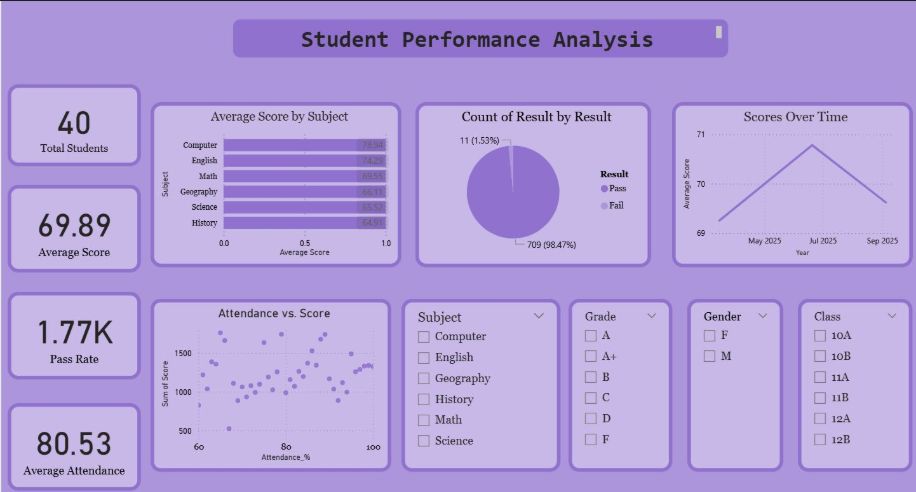

The dashboard page shown, as its layout file describes it:
{"tool":"powerbi","page":{"name":"Page 1","canvas":[1280,720],"ordinal":0},"visuals":[{"type":"card","fields":{"Values":["Sheet1.Total Students"]},"box":[8.8,118.7,185.8,113.8],"z":0},{"type":"card","fields":{"Values":["Sheet1.Average Score"]},"box":[8.8,258.7,185.8,121.6],"z":1000},{"type":"card","fields":{"Values":["Sheet1.Pass Rate"]},"box":[8.8,407.5,185.8,121.6],"z":2000},{"type":"card","fields":{"Values":["Sheet1.Average Attendance"]},"box":[8.8,563.2,185.8,121.6],"z":3000},{"type":"clusteredBarChart","fields":{"Category":["Sheet1.Subject"],"Y":["Sheet1.Average Score"]},"box":[208.1,144,350.2,229.5],"z":4000},{"type":"pieChart","fields":{"Y":["CountNonNull(Sheet1.Result)"],"Category":["Sheet1.Result"]},"box":[577.8,144,328.8,229.5],"z":5000},{"type":"lineChart","title":"Scores Over Time","fields":{"Y":["Sheet1.Average Score"],"Category":["Sheet1.Exam_Date.Variation.Date Hierarchy.Year","Sheet1.Exam_Date.Variation.Date Hierarchy.Quarter","Sheet1.Exam_Date.Variation.Date Hierarchy.Month","Sheet1.Exam_Date.Variation.Date Hierarchy.Day"]},"box":[936.7,144,335.6,229.5],"z":6000},{"type":"scatterChart","title":"Attendance vs. Score","fields":{"Y":["Sum(Sheet1.Score)"],"X":["Sheet1.Attendance_%"]},"box":[208.1,417.3,335.6,241.2],"z":7000},{"type":"slicer","fields":{"Values":["Sheet1.Gender"]},"box":[958.1,417.3,134.2,241.2],"z":8000},{"type":"slicer","fields":{"Values":["Sheet1.Subject"]},"box":[558.3,417.3,221.8,241.2],"z":9000},{"type":"slicer","fields":{"Values":["Sheet1.Grade"]},"box":[791.7,417.3,144.9,241.2],"z":10000},{"type":"slicer","fields":{"Values":["Sheet1.Class"]},"box":[1111.7,417.3,160.5,241.2],"z":11000},{"type":"textbox","box":[323.9,28.2,690.6,52.5],"z":12000}]}

Visuals, with their boxes on the page's 1280x720 design canvas (x1, y1, x2, y2). These are canvas units, not pixel positions in the 916x492 screenshot, which may show the page scaled, cropped or inside an application window:
card - Sheet1.Total Students: left=9, top=119, right=195, bottom=232
card - Sheet1.Average Score: left=9, top=259, right=195, bottom=380
card - Sheet1.Pass Rate: left=9, top=408, right=195, bottom=529
card - Sheet1.Average Attendance: left=9, top=563, right=195, bottom=685
clusteredBarChart - Sheet1.Subject x Sheet1.Average Score: left=208, top=144, right=558, bottom=374
pieChart - CountNonNull(Sheet1.Result) x Sheet1.Result: left=578, top=144, right=907, bottom=374
"Scores Over Time" lineChart: left=937, top=144, right=1272, bottom=374
"Attendance vs. Score" scatterChart: left=208, top=417, right=544, bottom=658
slicer - Sheet1.Gender: left=958, top=417, right=1092, bottom=658
slicer - Sheet1.Subject: left=558, top=417, right=780, bottom=658
slicer - Sheet1.Grade: left=792, top=417, right=937, bottom=658
slicer - Sheet1.Class: left=1112, top=417, right=1272, bottom=658
textbox: left=324, top=28, right=1014, bottom=81
